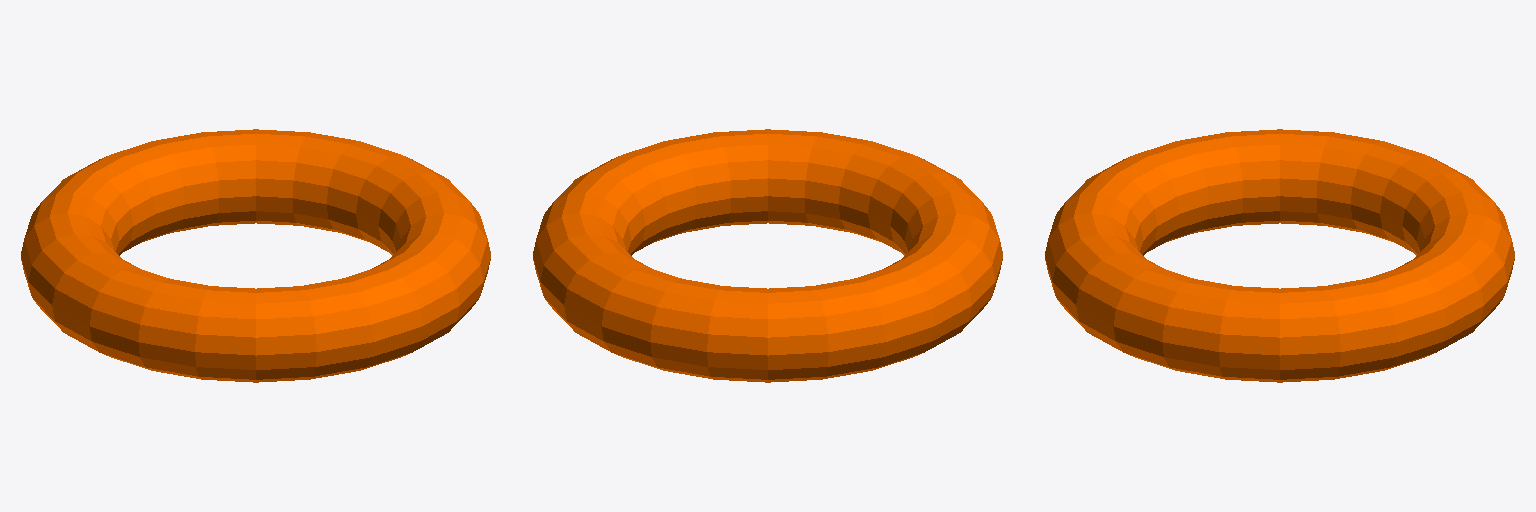
Rendered from Note.obj.
3 views of the same model, side by side, from view 1: azimuth 30°, elevation 25°; view 2: azimuth 150°, elevation 25°; view 3: azimuth 270°, elevation 25° (orthographic).
Parts seen in each view (by area): view 1: Note; view 2: Note; view 3: Note.
Boxes of the visible parts, x1=… form: Note: x1=21, y1=129, x2=490, y2=382; Note: x1=533, y1=129, x2=1002, y2=382; Note: x1=1045, y1=129, x2=1514, y2=382.
Bounding box in the file's own units: 1 × 0.2 × 1.